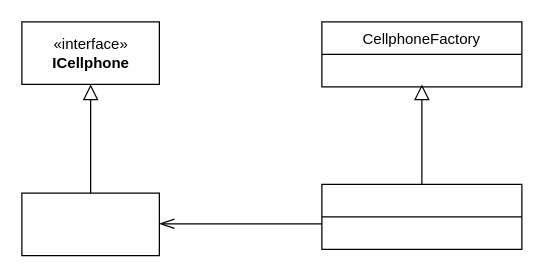
Image size: 544x278. Some labels were removed from this diagram. The shapes that lost their labels are listed below. From the top down, each one's centre as x and y in pixels, then its label:
At (x=90, y=224): "Cellphone".
At (x=421, y=216): "ConcreteCellphoneFactory".
